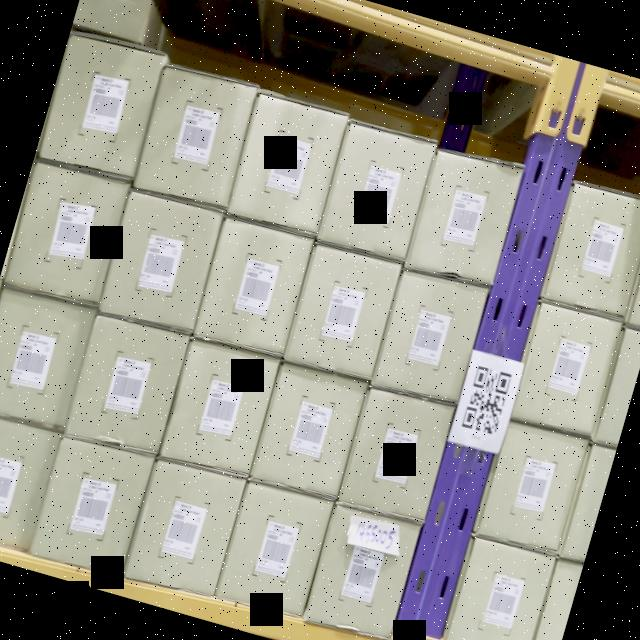box: (64, 311, 190, 457), (39, 33, 164, 180), (134, 64, 257, 212), (122, 454, 246, 598), (226, 91, 350, 232), (317, 120, 437, 264), (194, 215, 314, 358), (98, 190, 222, 328), (250, 358, 368, 501), (157, 341, 280, 478), (4, 166, 128, 300), (339, 386, 456, 526), (408, 148, 524, 288), (31, 438, 152, 572), (281, 244, 401, 379), (304, 506, 420, 640), (511, 300, 623, 438), (218, 482, 334, 614), (372, 272, 488, 403), (478, 423, 587, 553), (0, 285, 95, 430), (540, 181, 640, 317), (443, 539, 554, 640), (0, 413, 58, 550)
